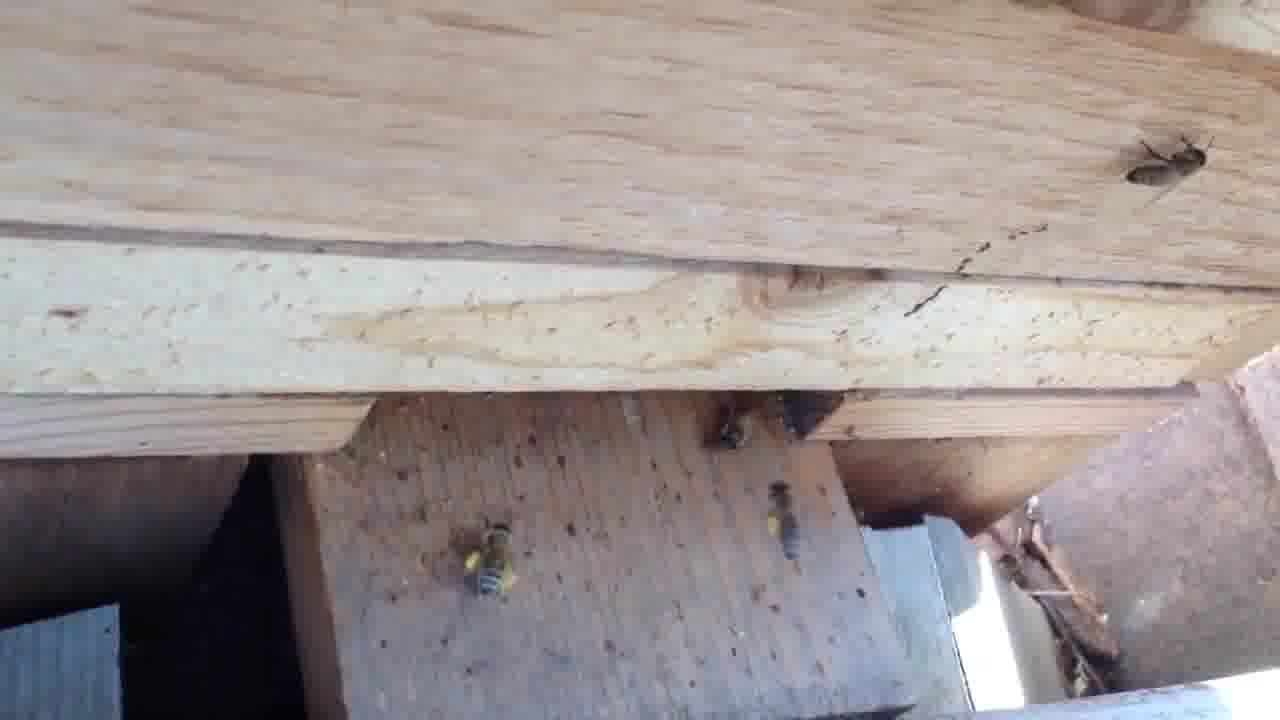pollen: (459, 511, 522, 603), (763, 473, 804, 571)
